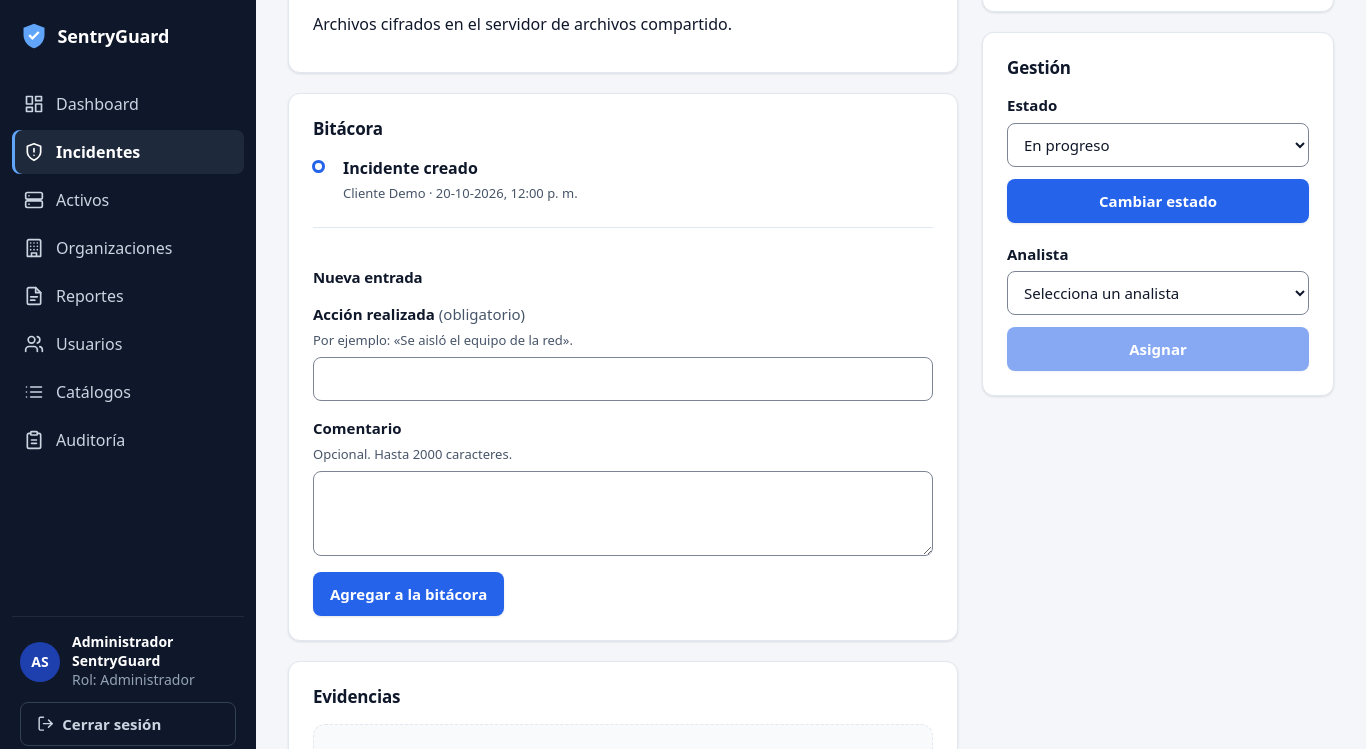
Test case: Bitácora y evidencias del incidente › el Administrador agrega una entrada a la bitácora
(page scrolled)
Expected: the text "Incidente creado" is shown, [343, 157, 478, 179]
Step 1. Type "Se aisló el servidor de la red" into the field labelled "Acción realizada (obligatorio)" → (623, 379), box [313, 357, 933, 401]
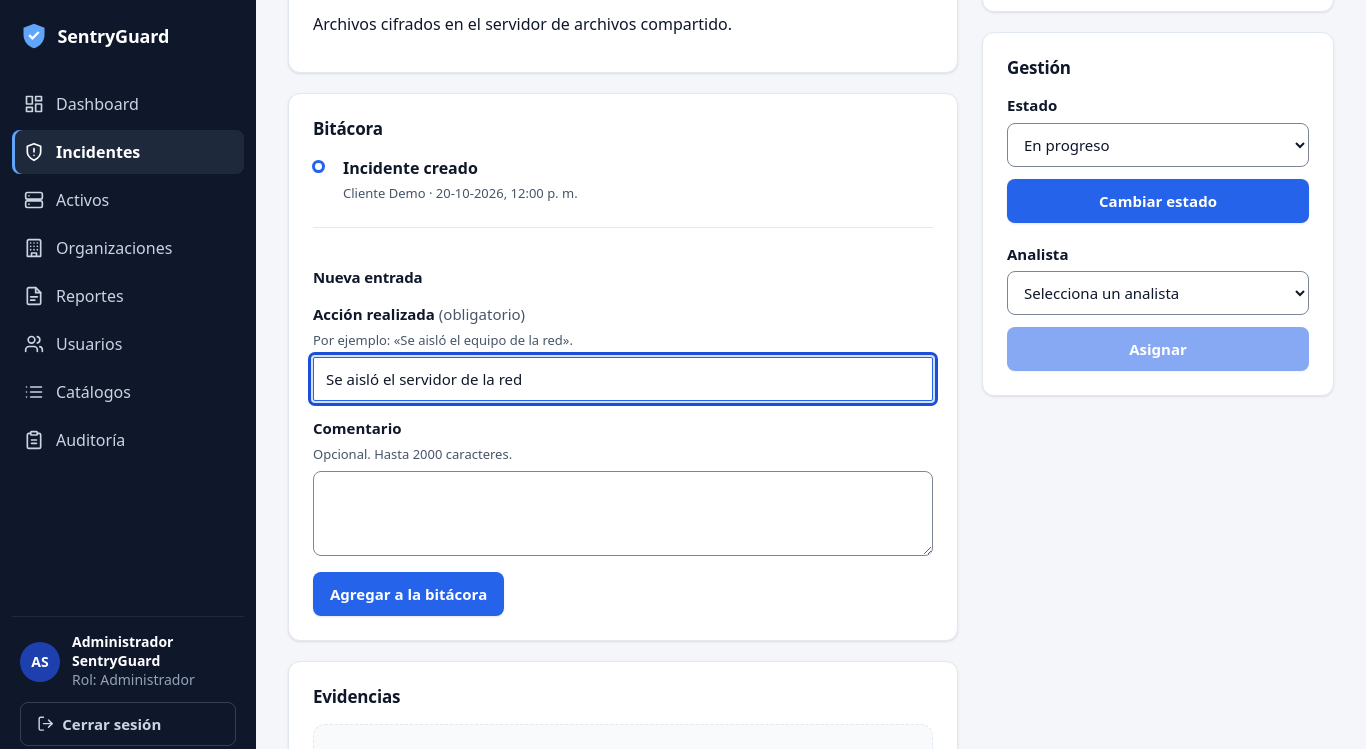
Step 2. Click the button "Agregar a la bitácora" → (409, 594), box [313, 572, 504, 616]
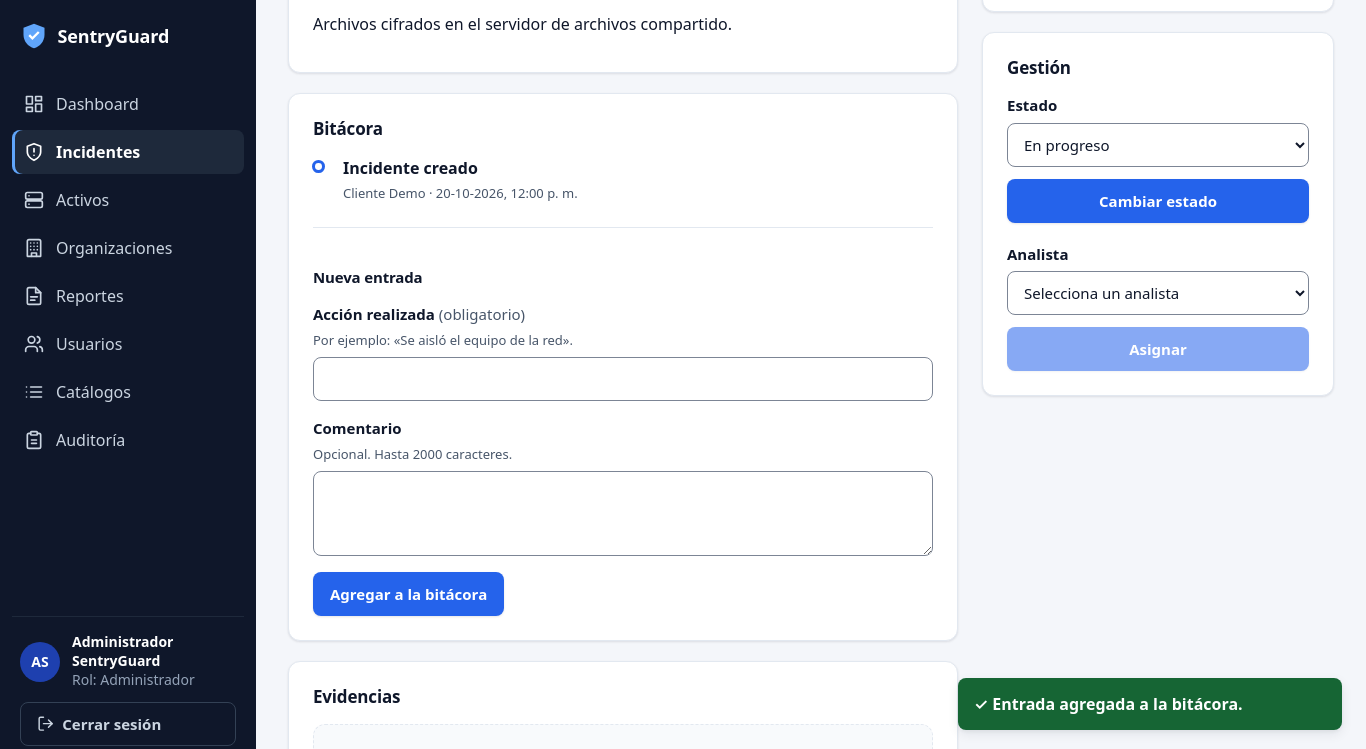
Now the text "Entrada agregada a la bitácora." is shown, box [992, 693, 1243, 715]
